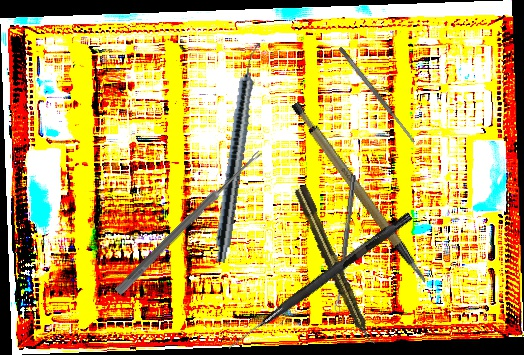Handpiece: (292, 184, 378, 349), (212, 41, 264, 264)
Hook Surgical: (226, 209, 413, 355)
Scalpel Handle: (288, 87, 429, 301)
Spatula Surgical: (337, 45, 417, 145)
Surgical Spoon: (114, 147, 264, 297), (333, 174, 357, 312)
